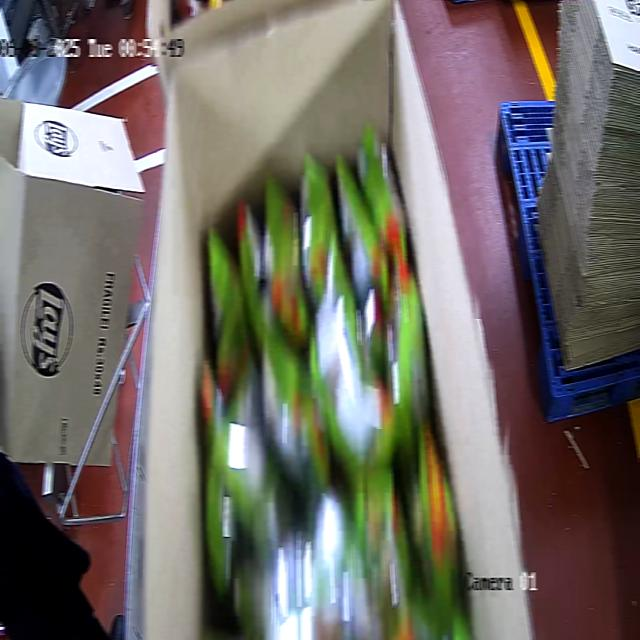YOGURT_HERB: (199, 128, 470, 638)
